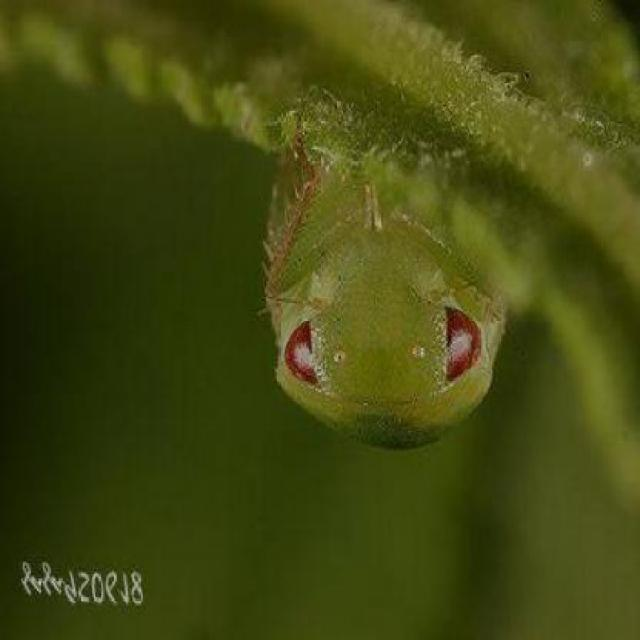green-leafhopper: (269, 134, 511, 454)
